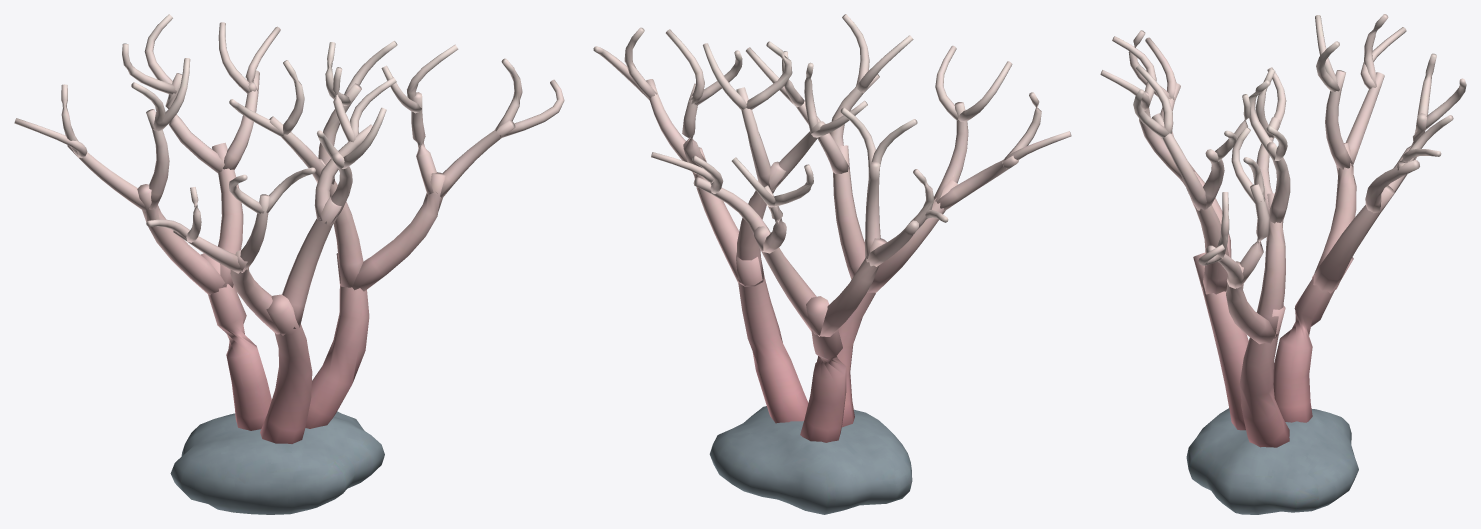
Rendered from branching_coral.glb.
3 renders of one model, left to right at view 1: azimuth 30°, elevation 25°; view 2: azimuth 150°, elevation 25°; view 3: azimuth 270°, elevation 25°, orthographic.
Parts seen in each view (by area): view 1: 20 Branching Coral; view 2: 20 Branching Coral; view 3: 20 Branching Coral.
Part boxes in pixels (left/top/right/bottom): 20 Branching Coral: left=14, top=14, right=564, bottom=514; 20 Branching Coral: left=593, top=14, right=1071, bottom=514; 20 Branching Coral: left=1100, top=14, right=1466, bottom=514.
Bounding box in the file's own units: 1.65 × 1.56 × 1.17.
Materials: 2 (2 with a texture image).
